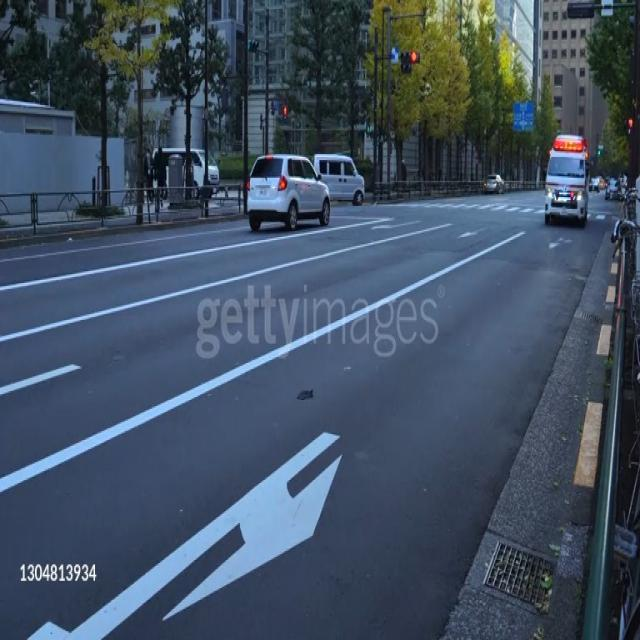emergency: (544, 120, 592, 224)
